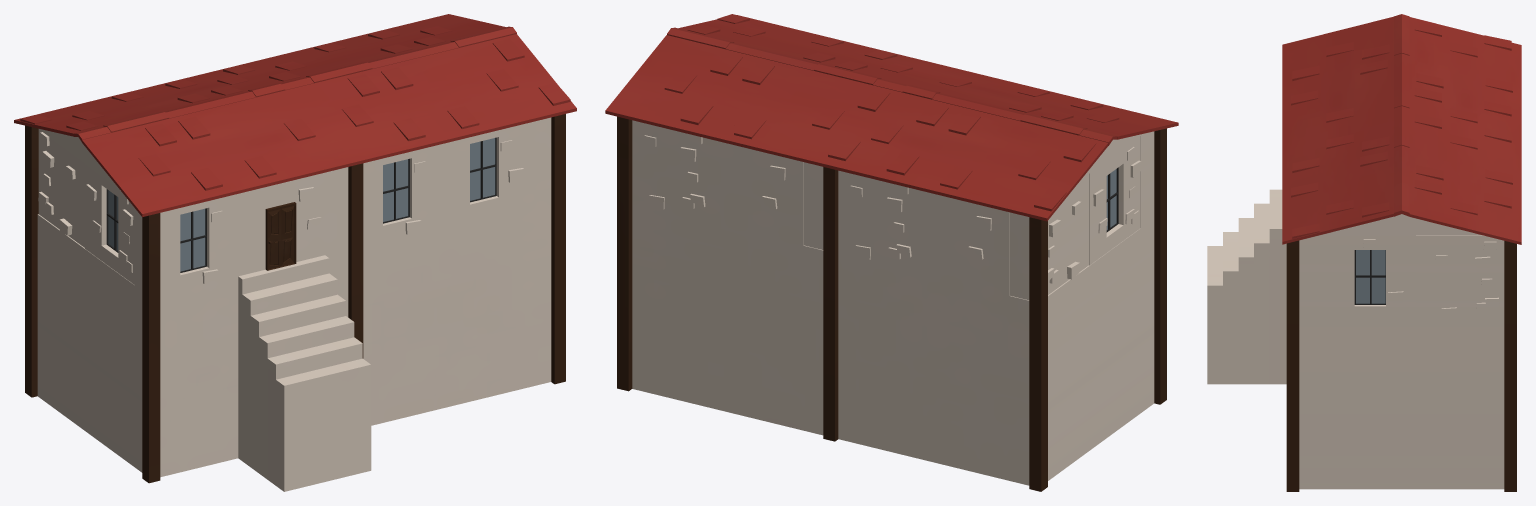
The picture shows the model from 3 angles, left to right: view 1: azimuth 30°, elevation 25°; view 2: azimuth 150°, elevation 25°; view 3: azimuth 270°, elevation 25°; orthographic projection. The views are drawn at different scales.
Parts seen in each view (by area): view 1: 7.001; view 2: 7.001; view 3: 7.001.
Boxes of the visible parts, box(x1,y1,x2,y2) form: 7.001: box(14, 14, 576, 491); 7.001: box(605, 14, 1178, 491); 7.001: box(1207, 14, 1521, 491).
Bounding box in the file's own units: 30.04 × 20.25 × 20.2.
3 materials, 1 textured.
